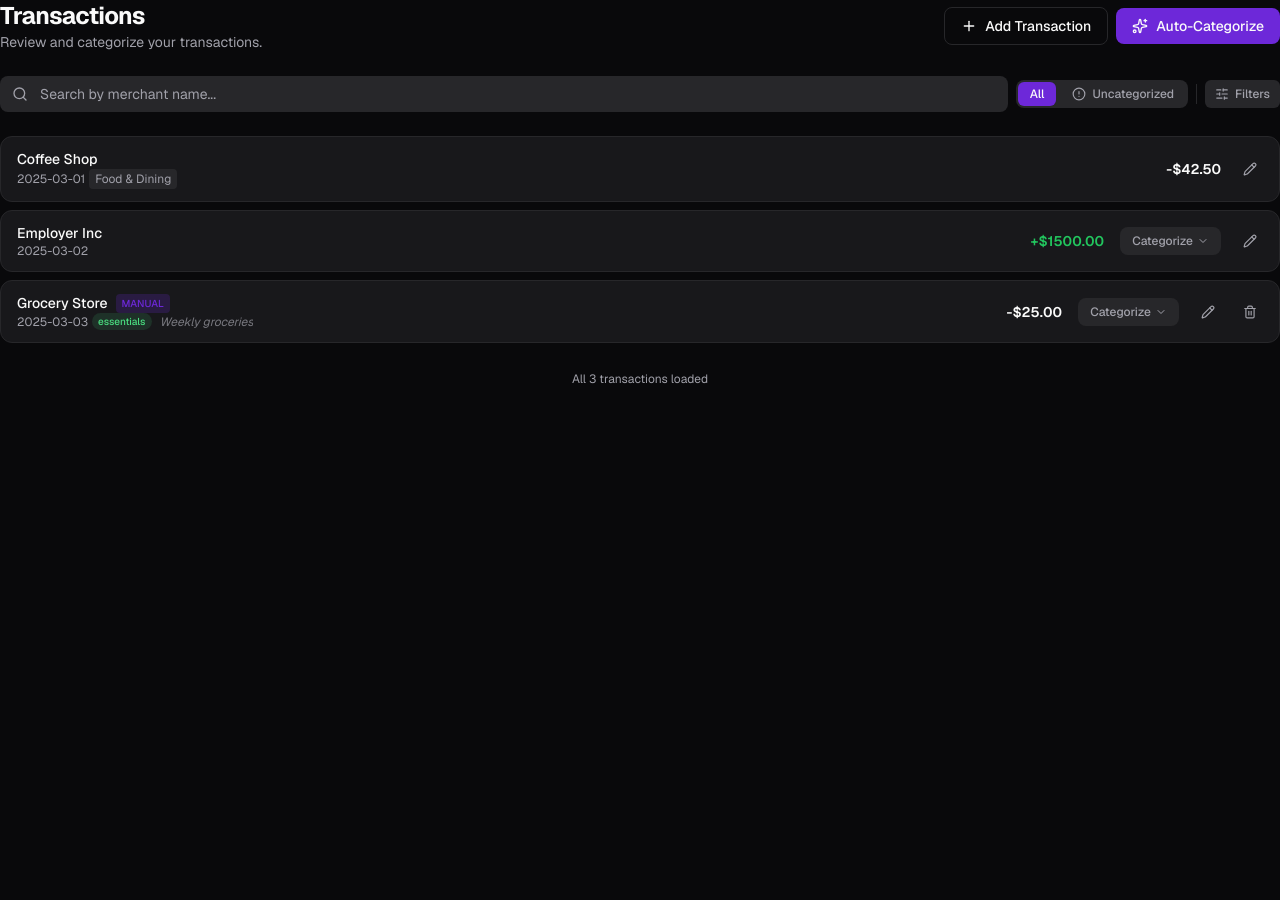
it: TransactionsPage › shows a confirmation dialog before deleting a manual transaction
Expected: the text "Grocery Store" is shown, [17,293,108,313]
Click the button titled "Delete manual transaction".
click(1250, 312)  # box [1237,299,1263,325]
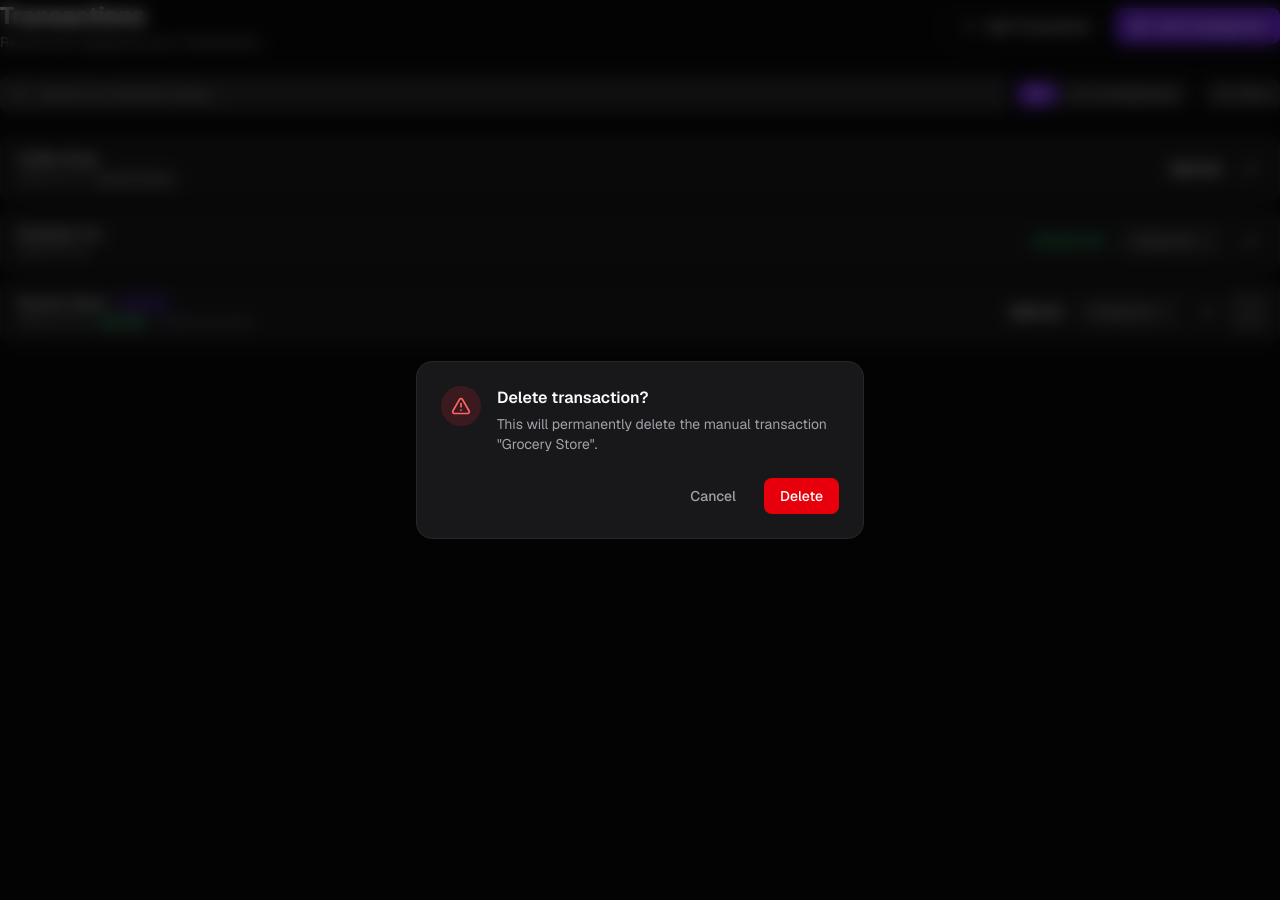
Result: the dialog is shown at [416,361,864,539]
Result: the heading "Delete transaction?" is shown at [497,387,648,408]
